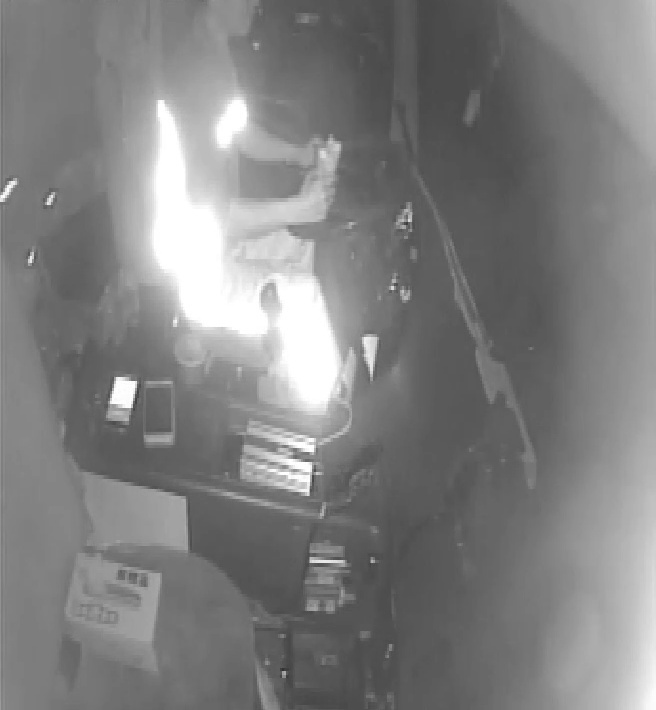cellphone: (102, 371, 142, 433)
